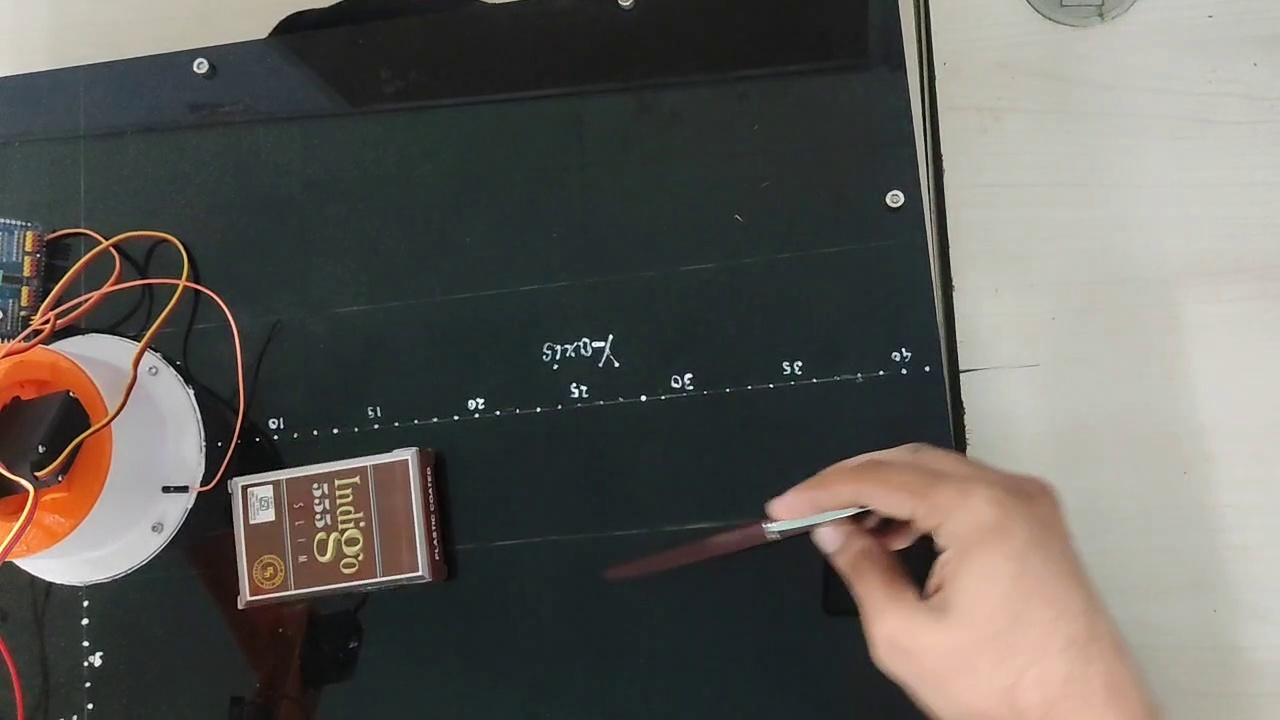BEX: (237, 459, 421, 600)
